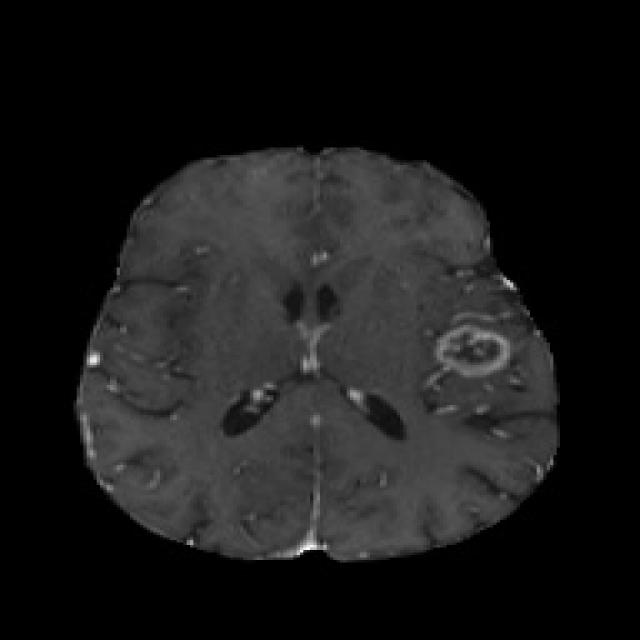positive: (432, 322, 512, 380)
